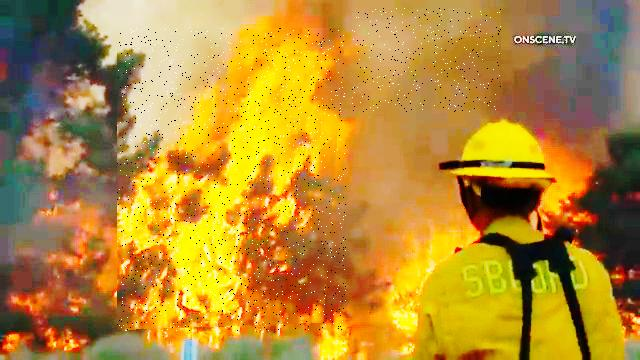fire: (117, 28, 346, 331)
smoke: (352, 9, 501, 114)
